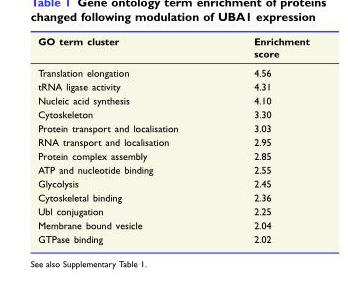table: (37, 36, 308, 244)
table column: (37, 36, 215, 244), (215, 36, 308, 244)
table column header: (37, 36, 308, 63)
table row: (37, 36, 308, 63), (37, 63, 308, 80), (37, 93, 308, 107), (37, 107, 308, 121), (37, 121, 308, 135), (37, 135, 308, 149), (37, 149, 308, 163), (37, 163, 308, 177), (37, 190, 308, 204), (37, 204, 308, 218), (37, 218, 308, 232), (37, 80, 308, 93), (37, 177, 308, 190), (37, 232, 308, 244)
